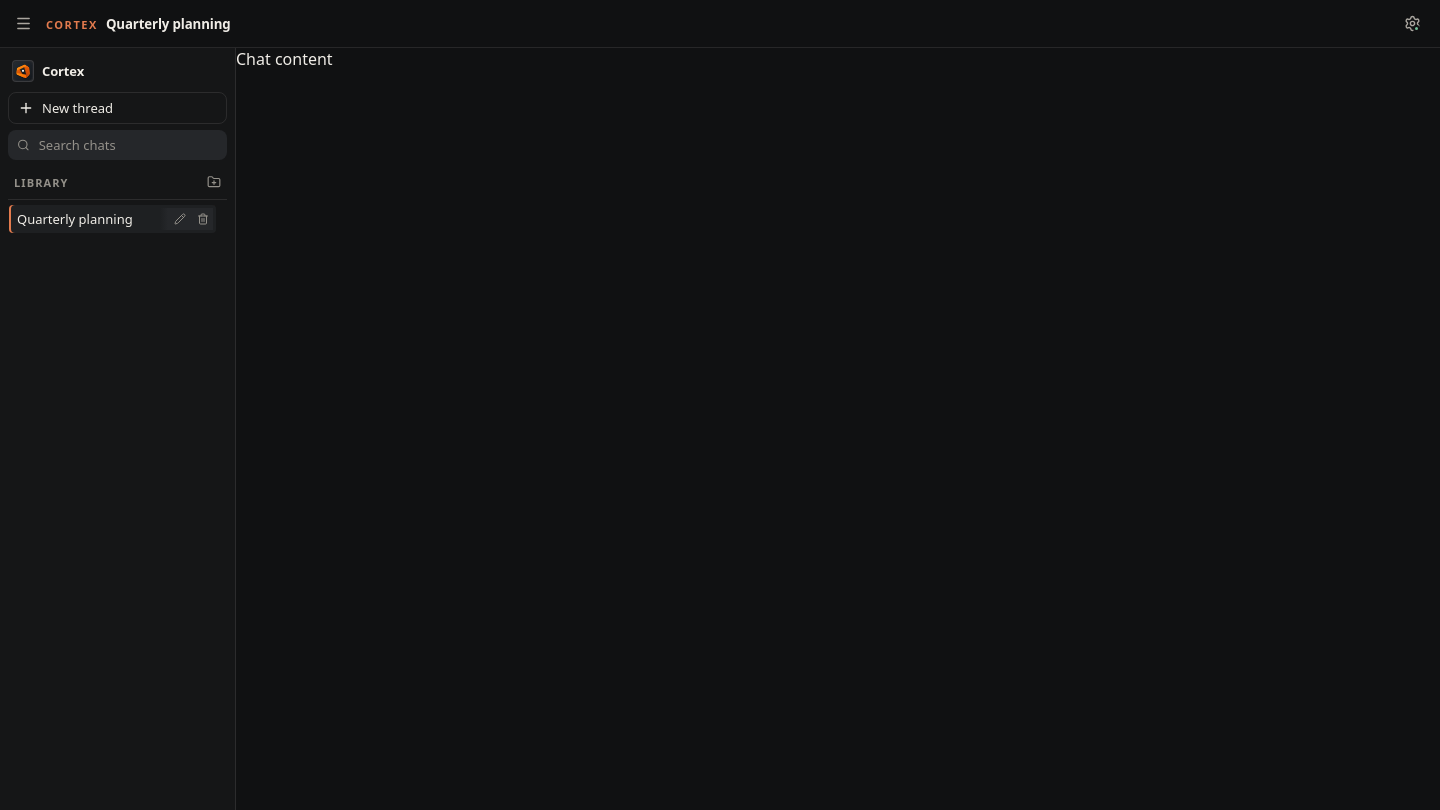
AppShell › confirms a chat delete in one step, without typing the title
Step 1. Click the button named "Delete Quarterly planning" → (202, 219), box x1=191 y1=208 x2=213 y2=230
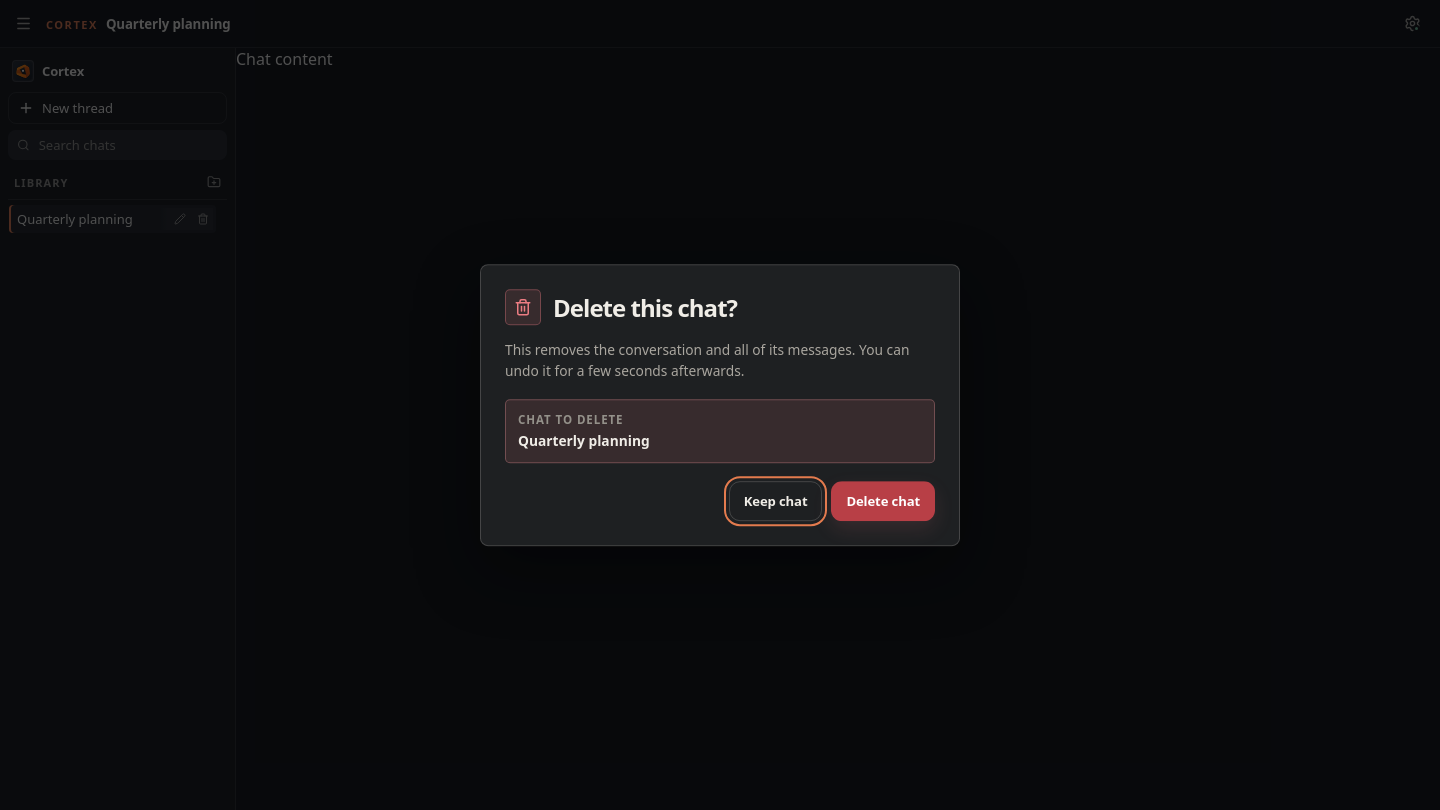
Check: the dialog does not show "cannot be recovered", box x1=480 y1=264 x2=960 y2=546
Check: the dialog shows "You can undo it for a few seconds afterwards.", box x1=505 y1=340 x2=909 y2=380
Check: the dialog shows "Quarterly planning", box x1=518 y1=431 x2=650 y2=450
Step 2. Click the button "Delete chat" → (883, 501), box x1=831 y1=481 x2=935 y2=521
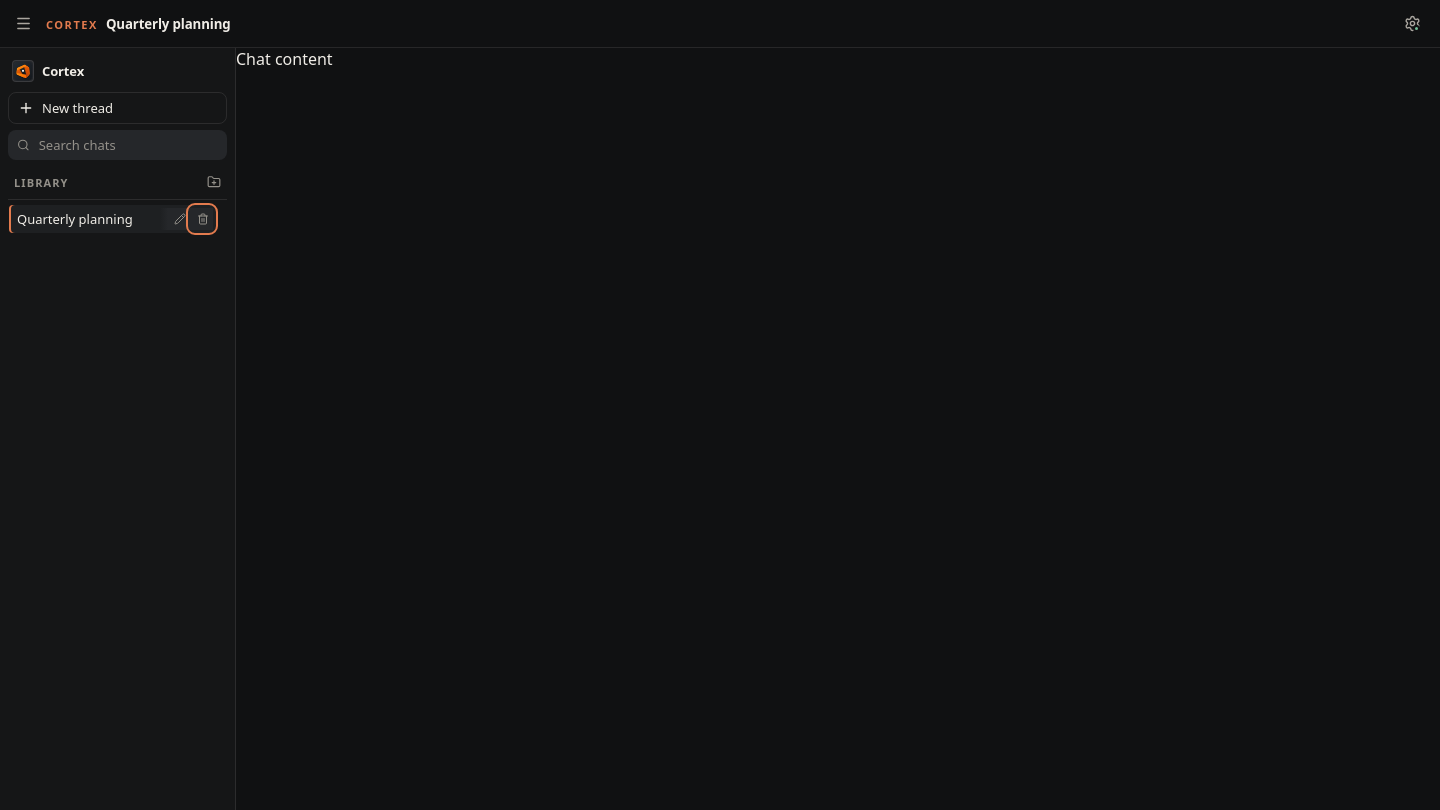
Check: the dialog is gone
